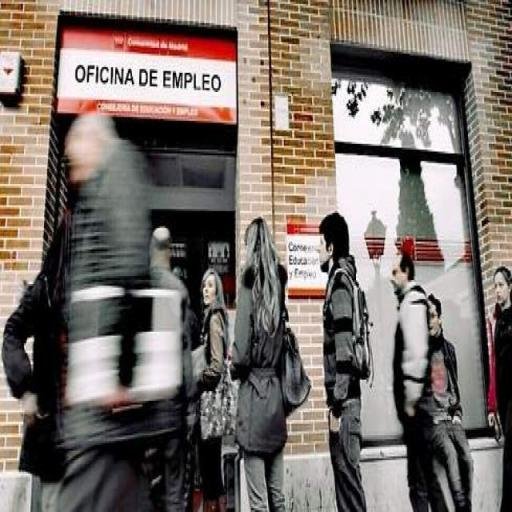person: (237, 219, 293, 512), (390, 252, 452, 512), (319, 208, 372, 512), (426, 290, 474, 512), (192, 271, 235, 512), (483, 262, 512, 512)
